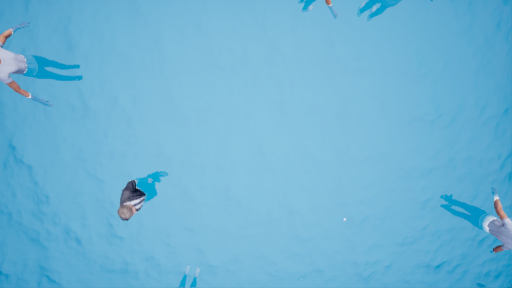person: (1, 19, 88, 109), (418, 186, 512, 259), (104, 163, 179, 216)
